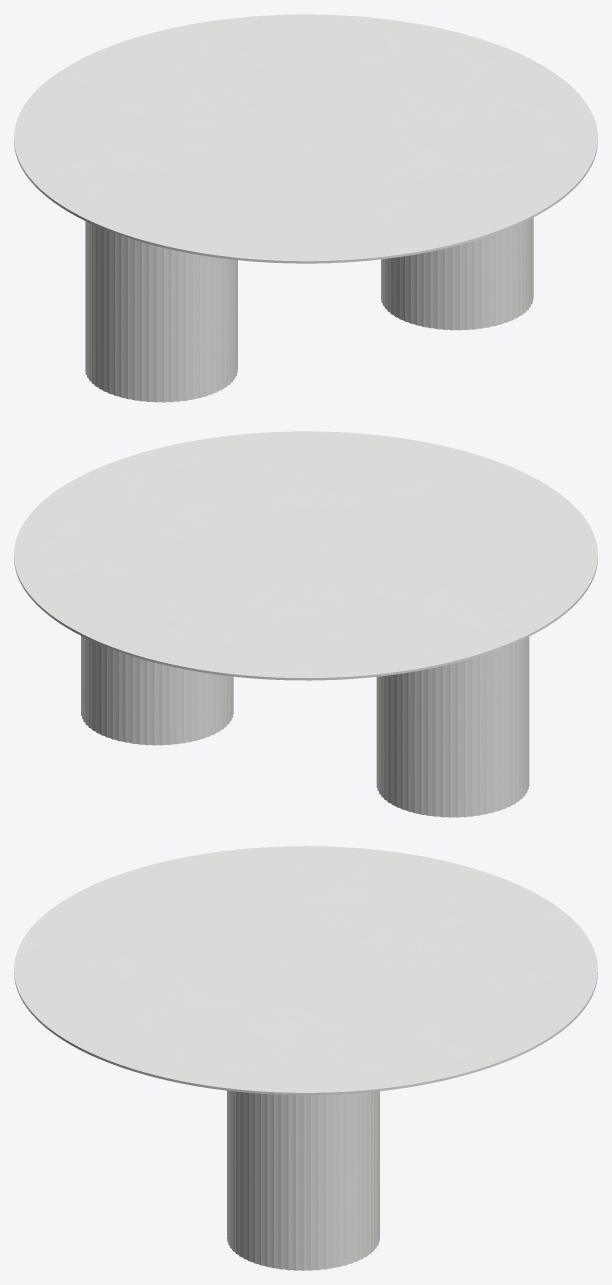
Rendered from purewhite_round_facet_ripplesecond.glb.
The picture shows the model from 3 angles, top to bottom: view 1: azimuth 30°, elevation 25°; view 2: azimuth 150°, elevation 25°; view 3: azimuth 270°, elevation 25°; orthographic projection.
Visible parts, largest first — view 1: facet_round, ripplesecond; view 2: facet_round, ripplesecond; view 3: facet_round, ripplesecond.
Part boxes in pixels (x1=…): facet_round: x1=14, y1=14, x2=597, y2=263; ripplesecond: x1=85, y1=217, x2=533, y2=402; facet_round: x1=14, y1=431, x2=597, y2=680; ripplesecond: x1=81, y1=636, x2=529, y2=817; facet_round: x1=14, y1=846, x2=597, y2=1095; ripplesecond: x1=227, y1=1090, x2=379, y2=1270.
Size of the model in its own units: 6.75 by 2.5 by 6.75.
1 material, 1 textured.
